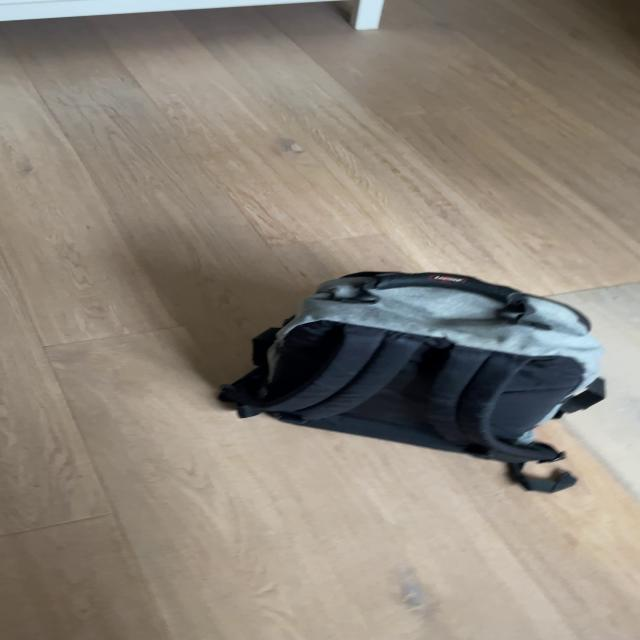backpack: (206, 257, 622, 465)
